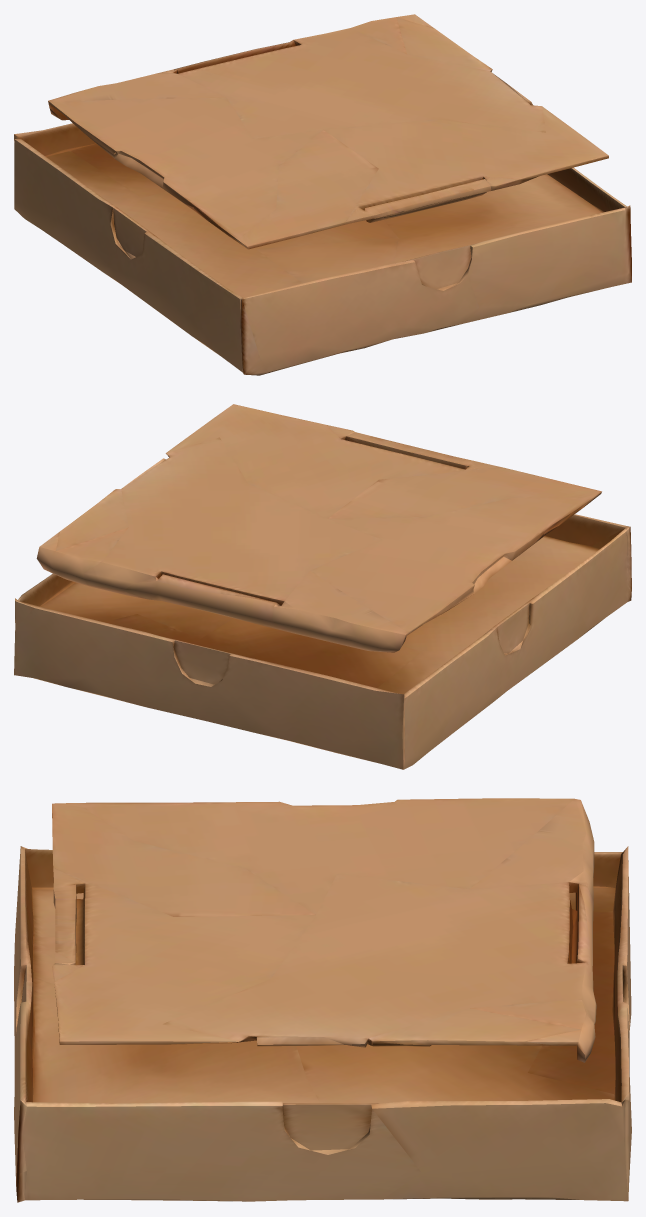
Rendered from pizzaBoxClosed.glb.
3 views of the same model, one above another, from view 1: azimuth 30°, elevation 25°; view 2: azimuth 150°, elevation 25°; view 3: azimuth 270°, elevation 25° (orthographic). The views are drawn at different scales.
Visible parts, largest first — view 1: model; view 2: model; view 3: model.
Part boxes in pixels (x1,y1,x2,y2): model: (14,14,631,375); model: (14,404,631,769); model: (14,798,631,1202).
Size of the model in its own units: 1.86 by 0.5537 by 1.9.
1 material, 1 textured.
